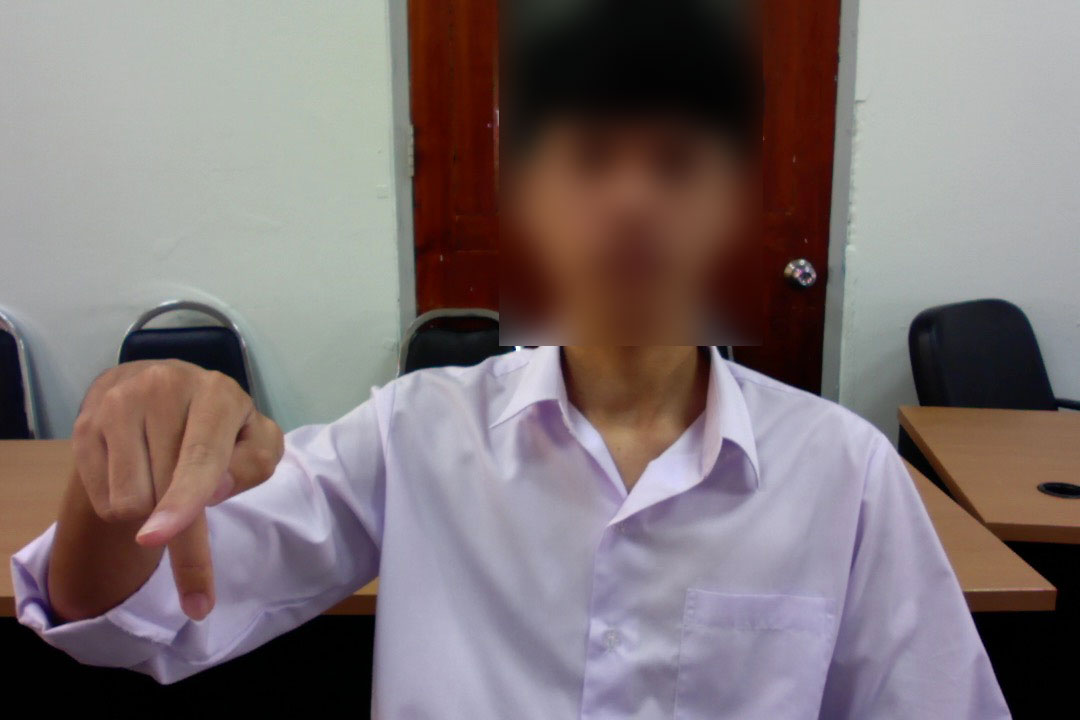por: (56, 347, 287, 625)
